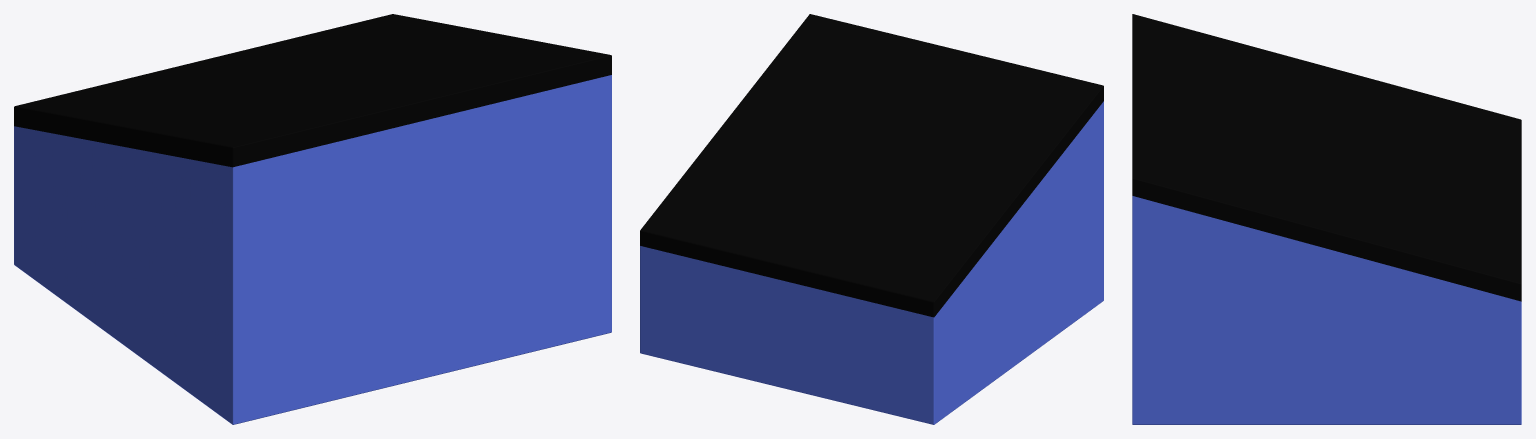
File: CeilingMiddleSimple.fbx
The picture shows the model from 3 angles, left to right: view 1: azimuth 30°, elevation 25°; view 2: azimuth 150°, elevation 25°; view 3: azimuth 270°, elevation 25°; orthographic projection. The views are drawn at different scales.
Visible parts, largest first — view 1: CeilingMiddle; view 2: CeilingMiddle; view 3: CeilingMiddle.
Boxes of the visible parts, x1,y1,x2,y2 form: CeilingMiddle: (14,14,611,424); CeilingMiddle: (640,14,1103,424); CeilingMiddle: (1132,14,1521,424).
Size of the model in its own units: 2 by 2 by 1.4.
